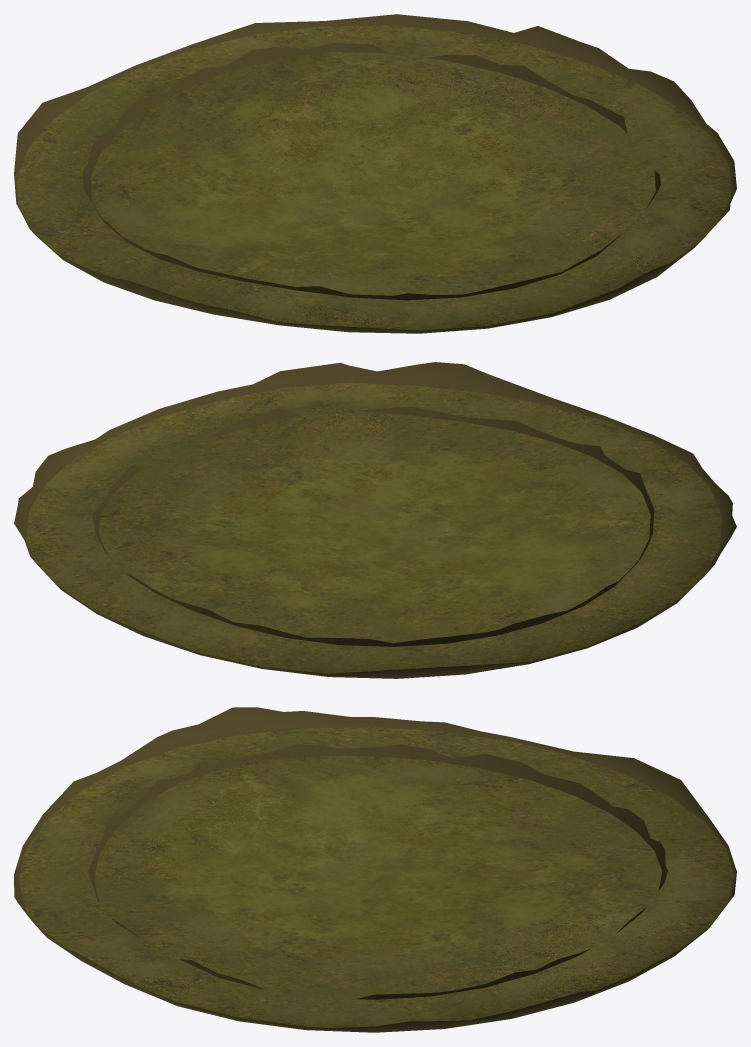
The model's file is ground_near.fbx.
The picture shows the model from 3 angles, top to bottom: view 1: azimuth 30°, elevation 25°; view 2: azimuth 150°, elevation 25°; view 3: azimuth 270°, elevation 25°; orthographic projection. The views are drawn at different scales.
Parts seen in each view (by area): view 1: ground; view 2: ground; view 3: ground.
Boxes of the visible parts, x1,y1,x2,y2 form: ground: (14, 14, 736, 333); ground: (14, 362, 736, 678); ground: (14, 707, 736, 1032).
Size of the model in its own units: 10171 by 515 by 10073.
